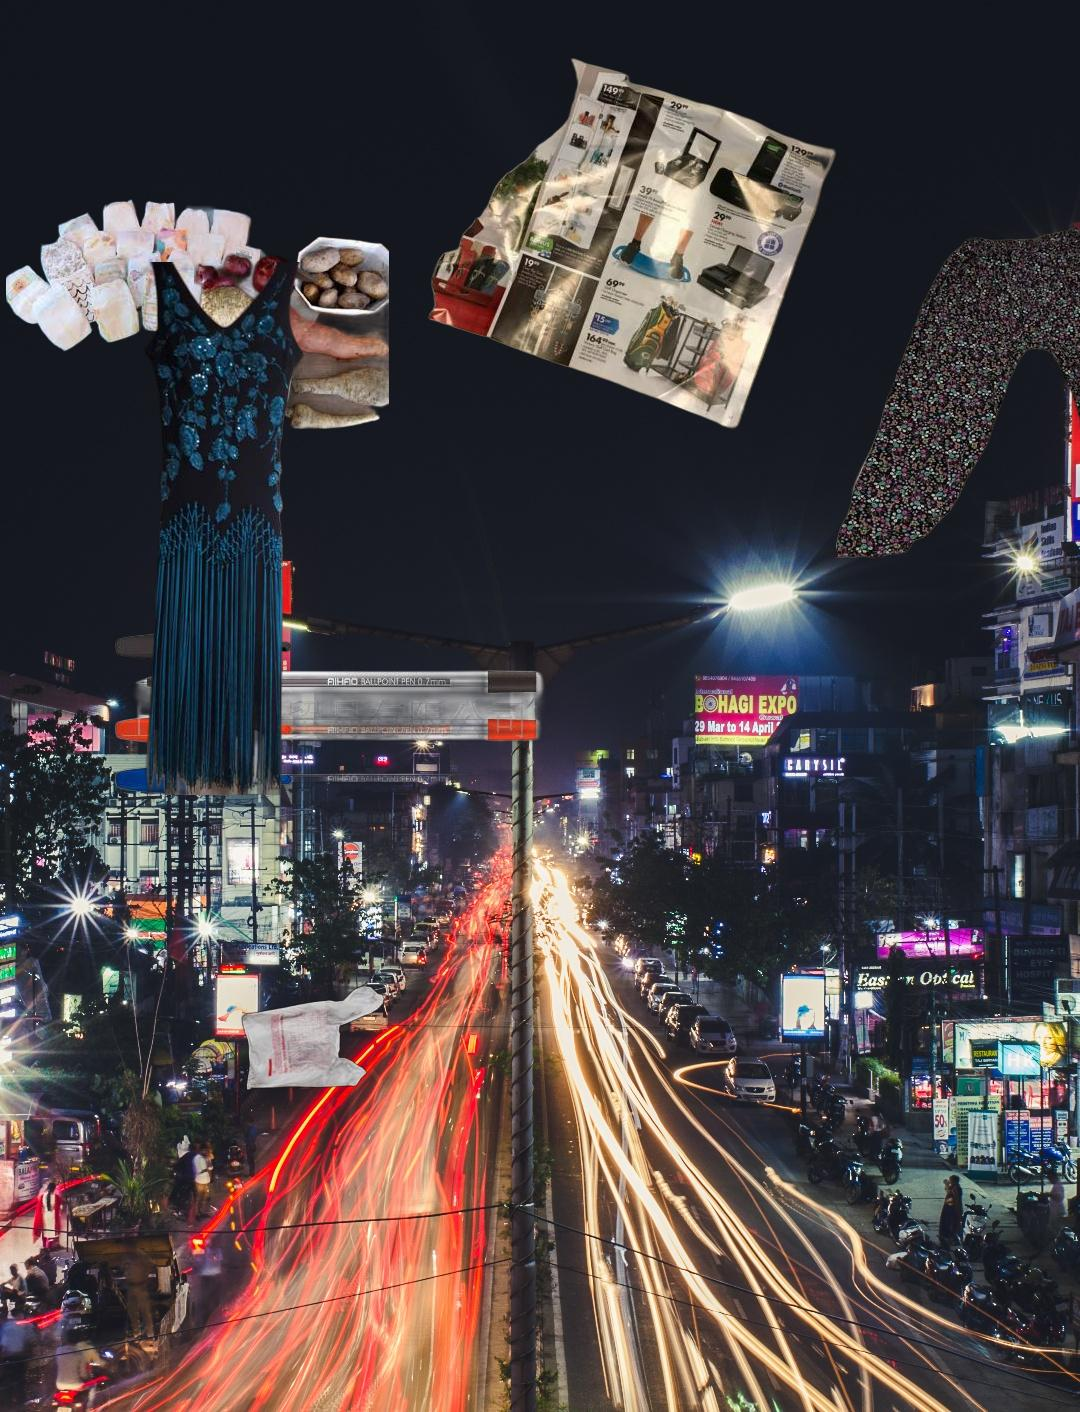biological: (194, 234, 389, 470)
clothes: (119, 262, 322, 795), (836, 222, 1080, 563)
paper: (424, 54, 841, 431)
penholder: (85, 629, 565, 808)
plastic-bag: (239, 983, 387, 1093)
plastic-bottles: (463, 1261, 974, 1412)
trash: (6, 195, 324, 354)
